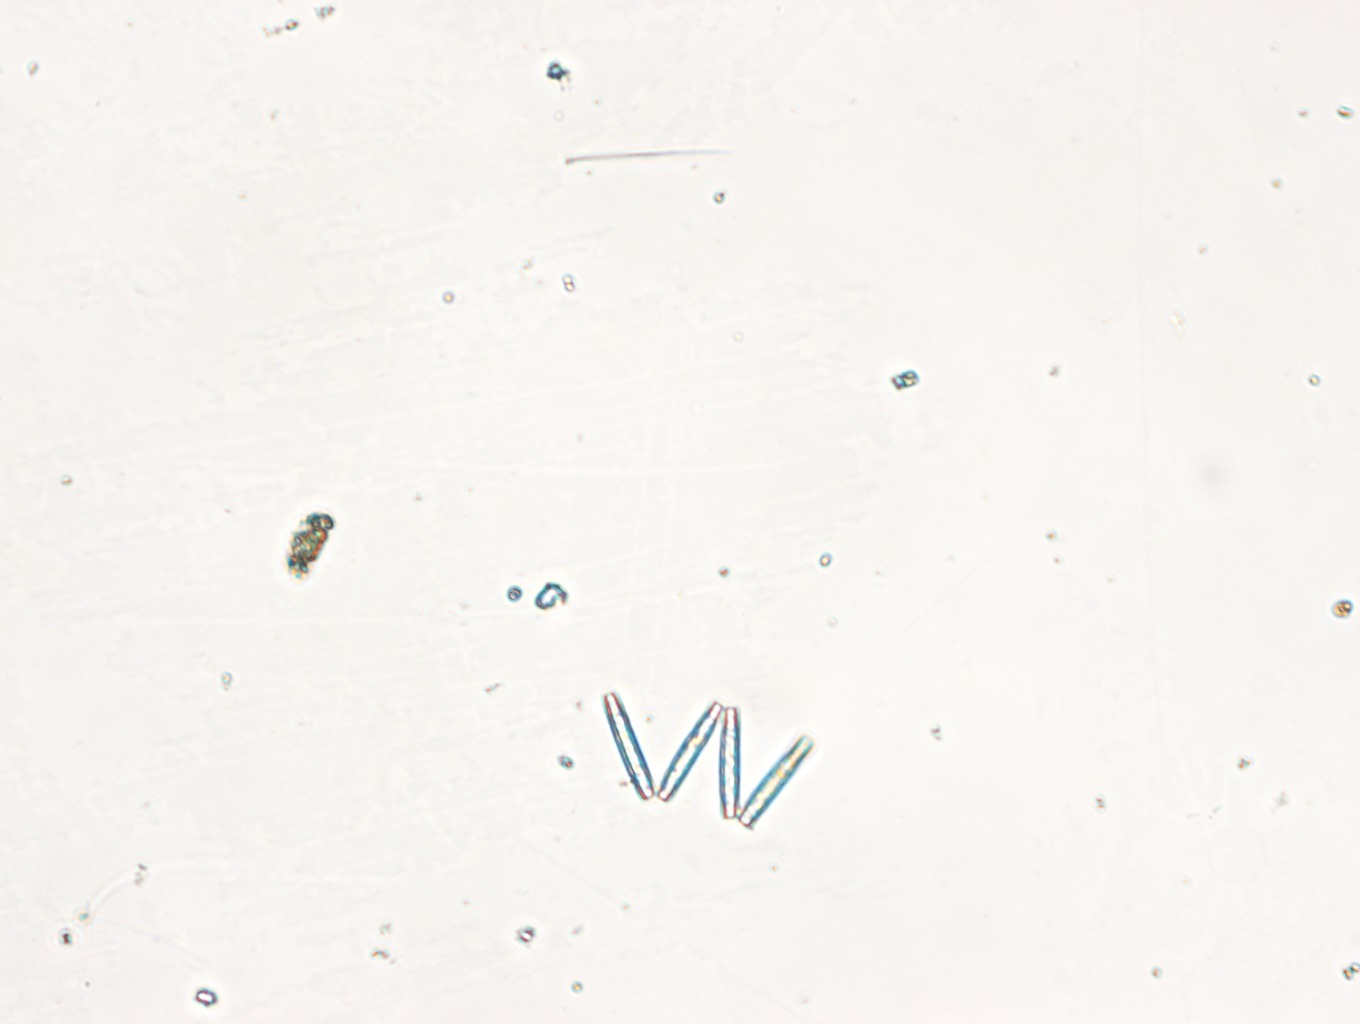thalassionema nitzschioides: (598, 684, 819, 831)
